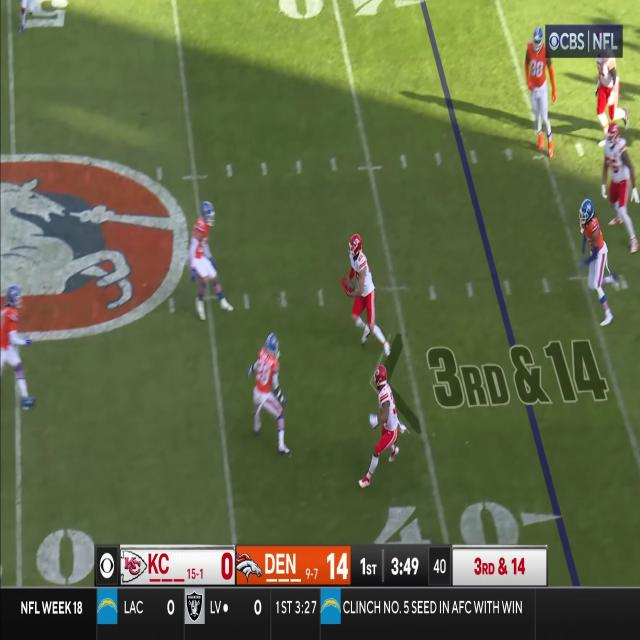Player: (186, 201, 224, 323), (364, 366, 400, 490), (603, 121, 634, 255), (527, 27, 557, 162), (253, 331, 286, 452), (580, 199, 611, 326), (1, 280, 29, 406), (346, 234, 377, 343), (594, 52, 618, 131)
